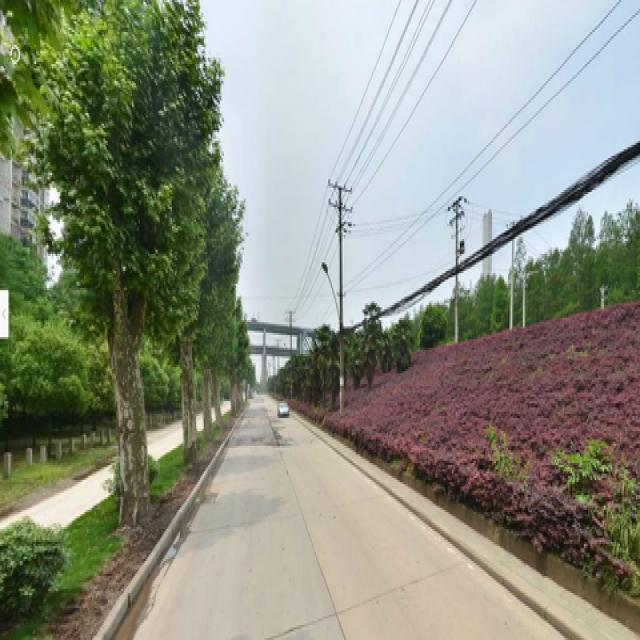meta: (43, 2, 205, 523)
